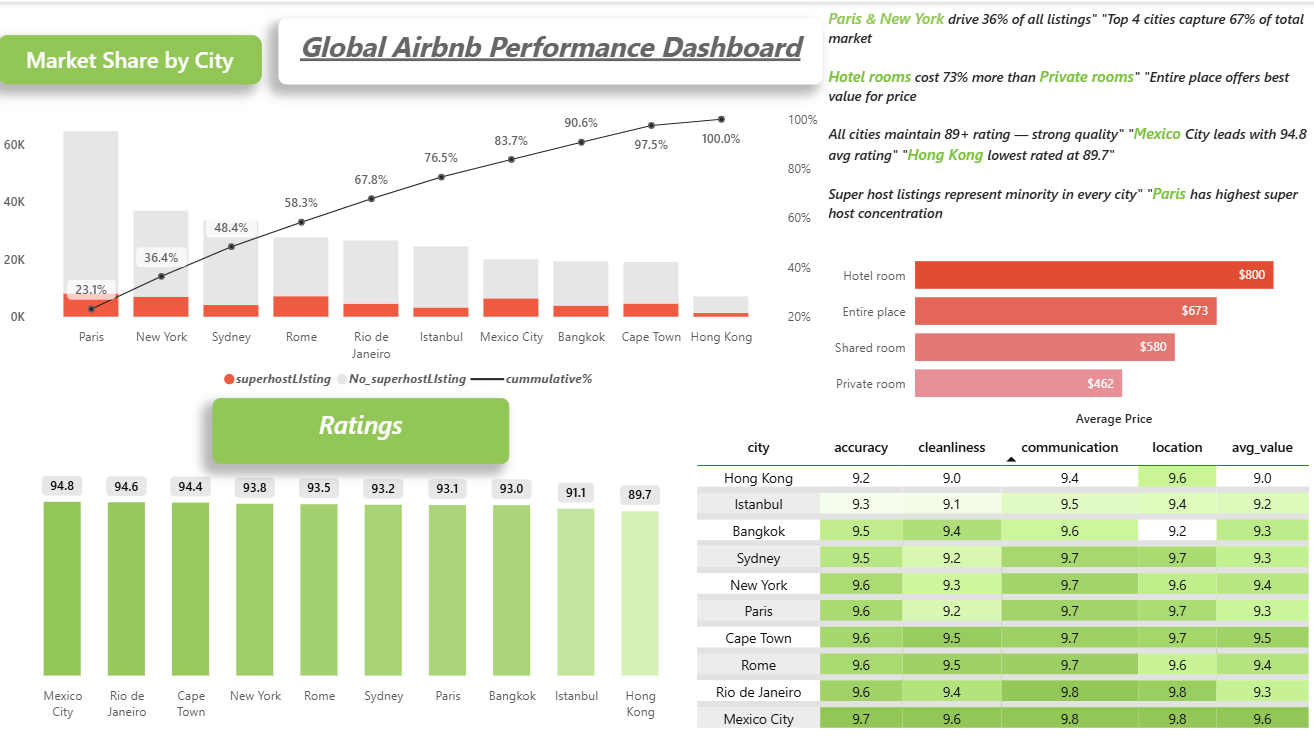

The page's visual inventory and layout, read from the dashboard file:
{"tool":"powerbi","page":{"name":"Rattings","canvas":[1280,720],"ordinal":1},"visuals":[{"type":"lineStackedColumnComboChart","fields":{"Category":["Listings.city"],"Y":["Listings.superhostLIsting","Listings.No_superhostLIsting"],"Y2":["Listings.cummulative%"]},"box":[0,96,800,288],"z":0},{"type":"textbox","box":[0,32,256,48],"z":1000},{"type":"barChart","fields":{"Category":["Listings.room_type"],"Y":["Listings.avg_price"]},"box":[800,224,480,192],"z":2000},{"type":"columnChart","fields":{"Category":["Listings.city"],"Y":["Listings.avg_ratiing"]},"box":[0,448,672,256],"z":3000},{"type":"tableEx","fields":{"Values":["Listings.city","Listings.avg_accuracy","Listings.avg_cleanliness","Listings.avg_communication","Listings.avg_location","Listings.avg_value"]},"box":[672,416,608,304],"z":4000},{"type":"textbox","box":[800,0,480,240],"z":5000},{"type":"textbox","box":[208,384,288,64],"z":6000},{"type":"textbox","box":[272,16,528,64],"z":7000}]}

Visuals, with their boxes in screenshot pixels (x1, y1, x2, y2), scaled from the page's 1280x720 canvas onto the 1314x736 screenshot:
lineStackedColumnComboChart - Listings.city x Listings.superhostLIsting: <region>0, 98, 821, 393</region>
textbox: <region>0, 33, 263, 82</region>
barChart - Listings.room_type x Listings.avg_price: <region>821, 229, 1313, 425</region>
columnChart - Listings.city x Listings.avg_ratiing: <region>0, 458, 690, 720</region>
tableEx - Listings.city x Listings.avg_accuracy: <region>690, 425, 1313, 735</region>
textbox: <region>821, 0, 1313, 245</region>
textbox: <region>214, 393, 509, 458</region>
textbox: <region>279, 16, 821, 82</region>
